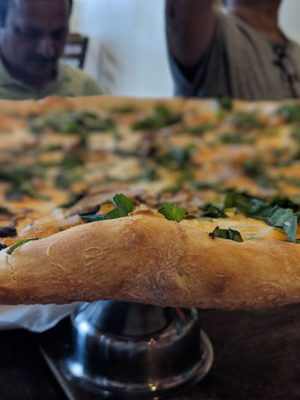soup: (0, 101, 300, 312)
